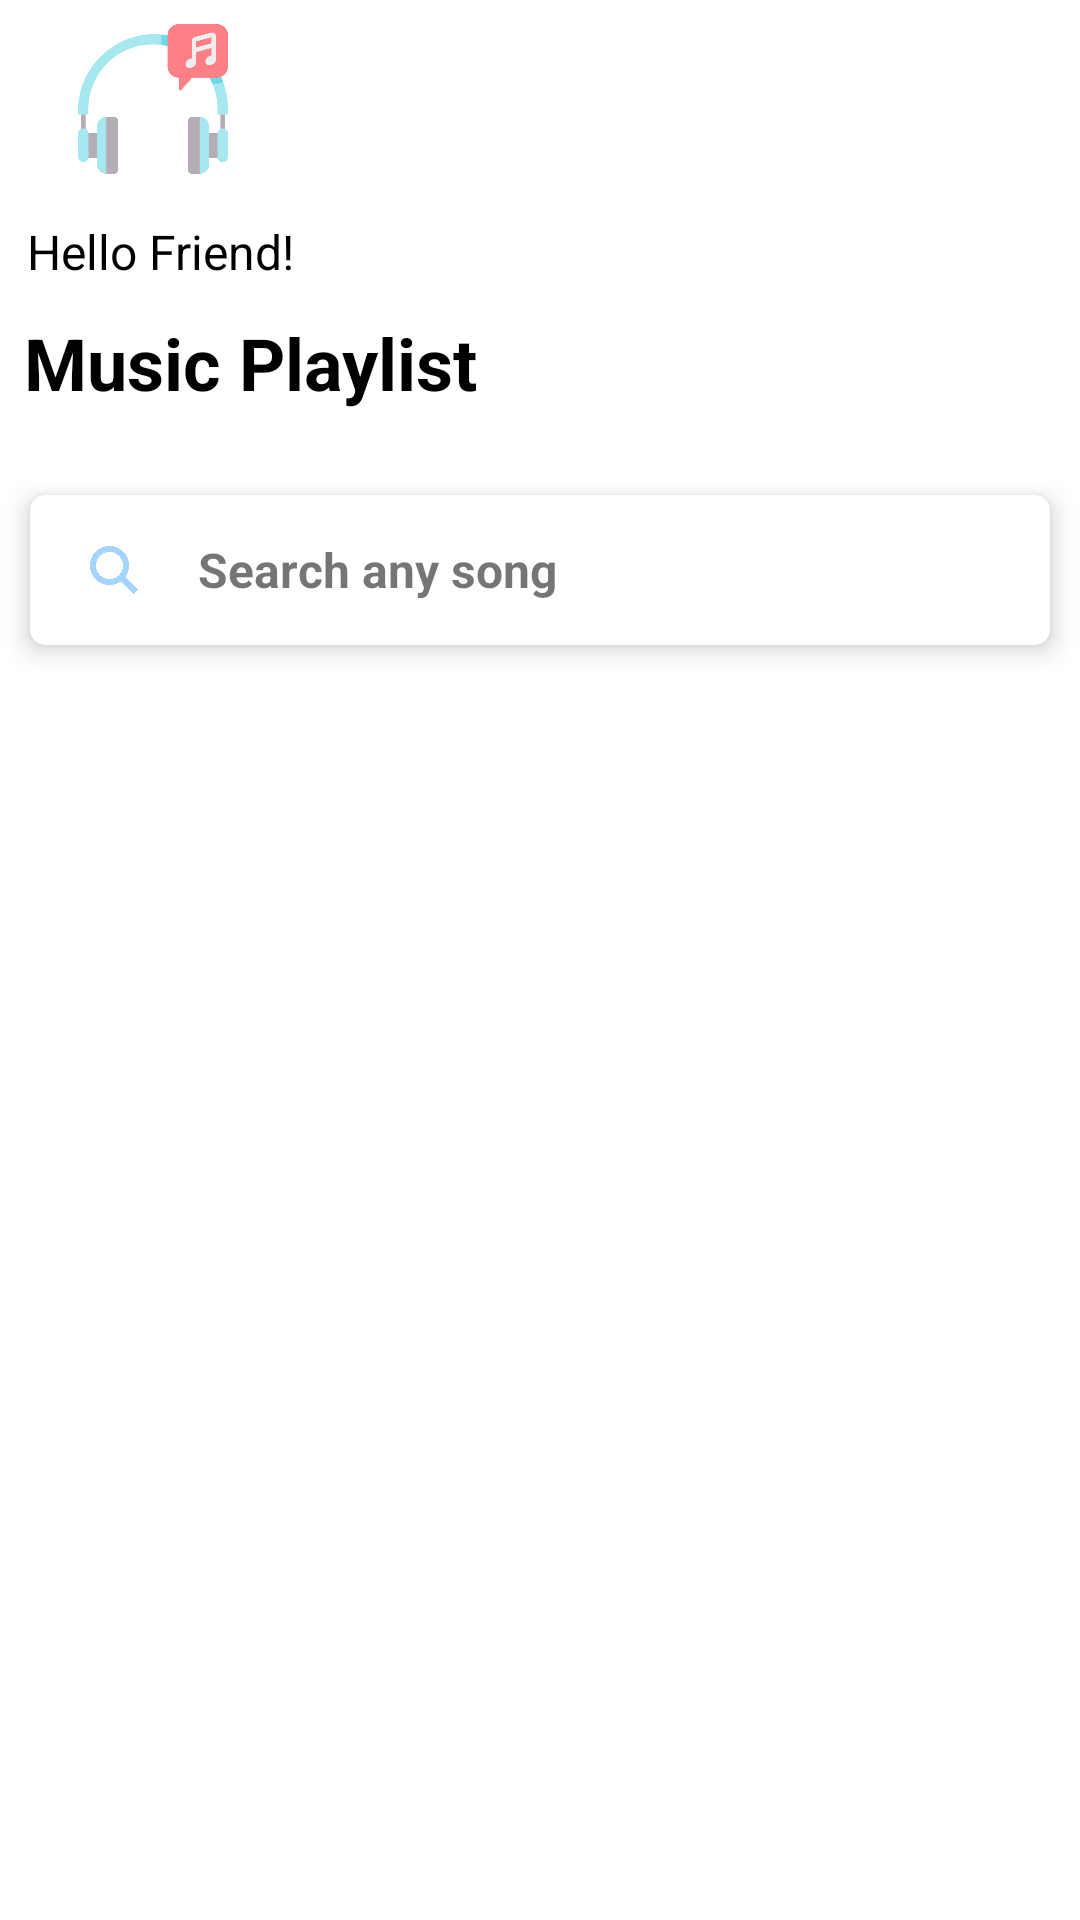

Screen size 1080 × 1920. Icon name, then its box in pixels as (x1, y1, x2, y2):
headphone: (78, 24, 228, 174)
